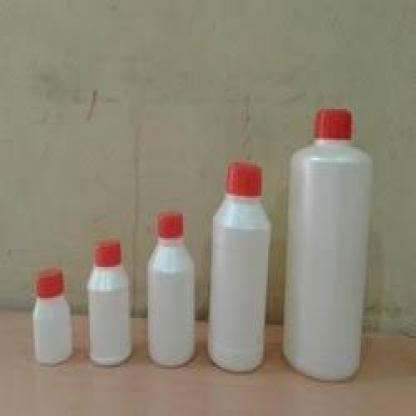trash: (283, 108, 371, 380), (208, 161, 269, 371), (148, 212, 193, 365), (87, 240, 130, 364), (33, 268, 71, 363)
